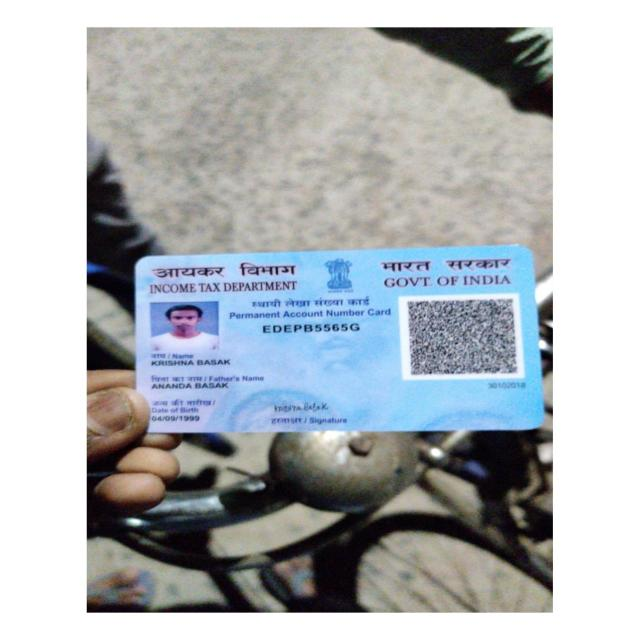pan_card: (137, 243, 542, 435)
